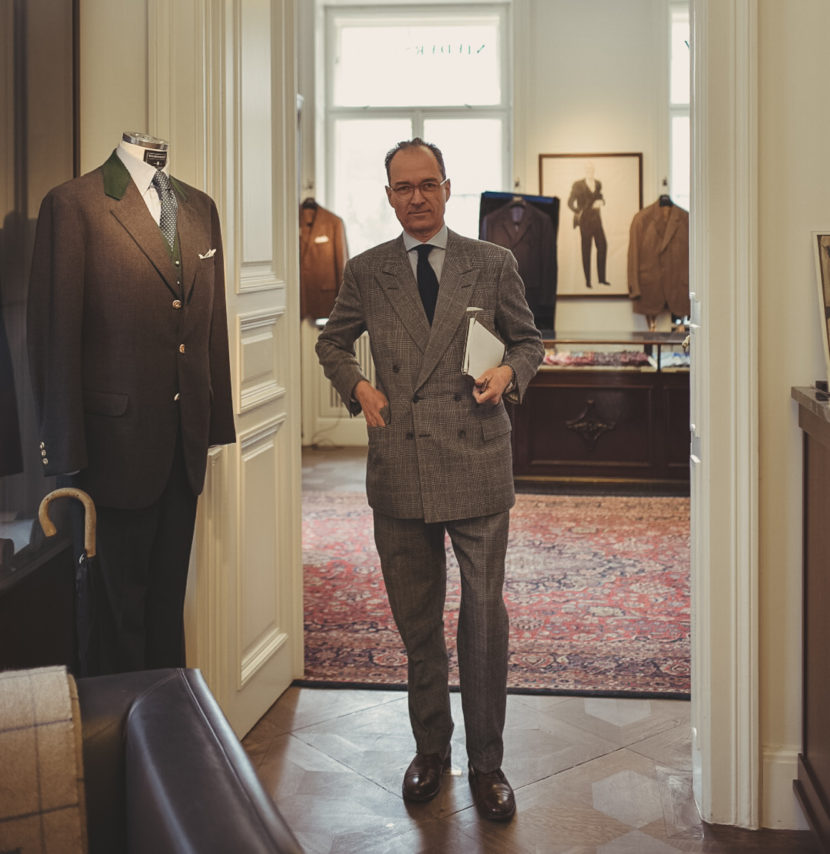feet: (391, 714, 530, 827)
